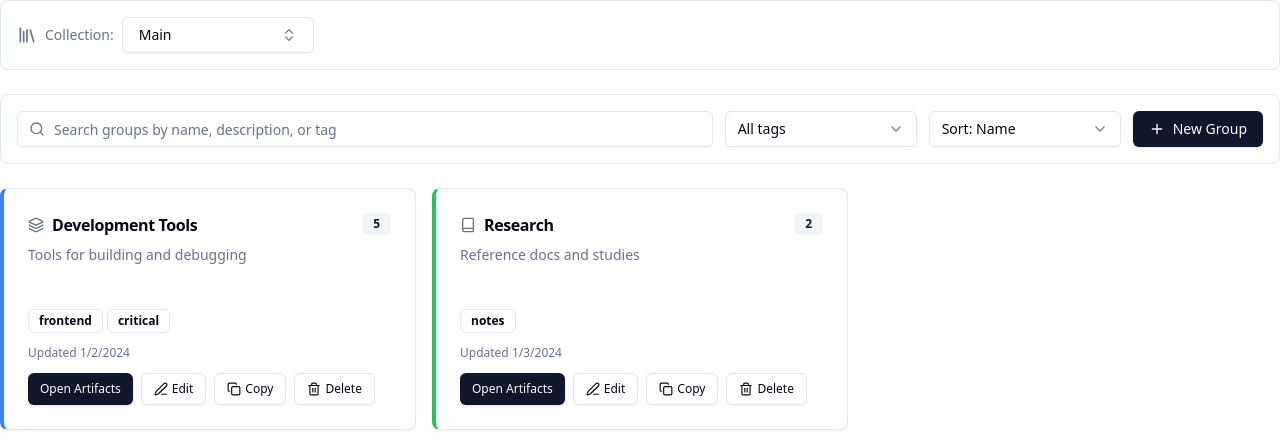
it: GroupsPageClient › filters groups by search input
Type "research" into the field labelled "Search groups by name, description, or tag" at (365, 129), box [17, 111, 713, 147]
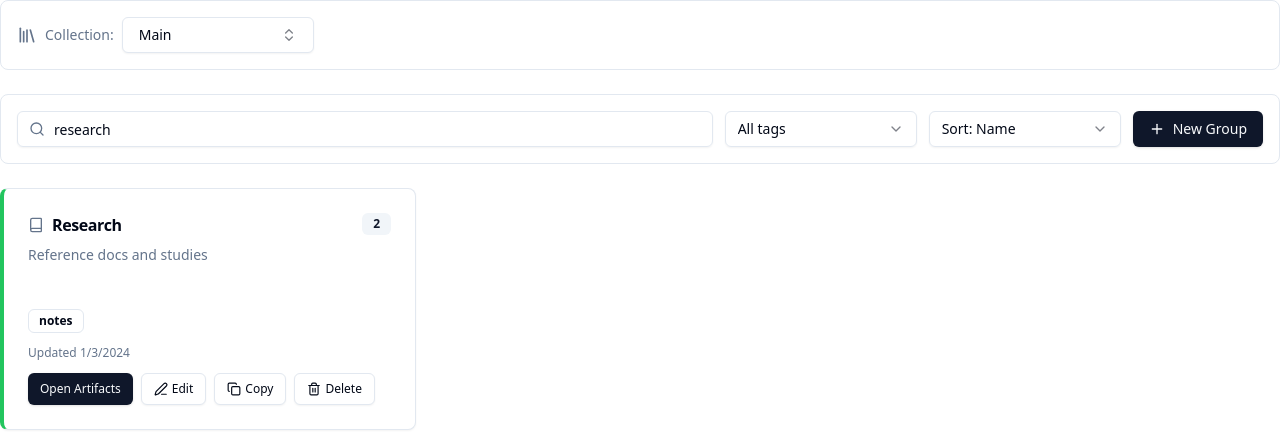
Expected: the heading "Research" is shown, [52, 213, 122, 237]
Result: the button "Development Tools" is gone
